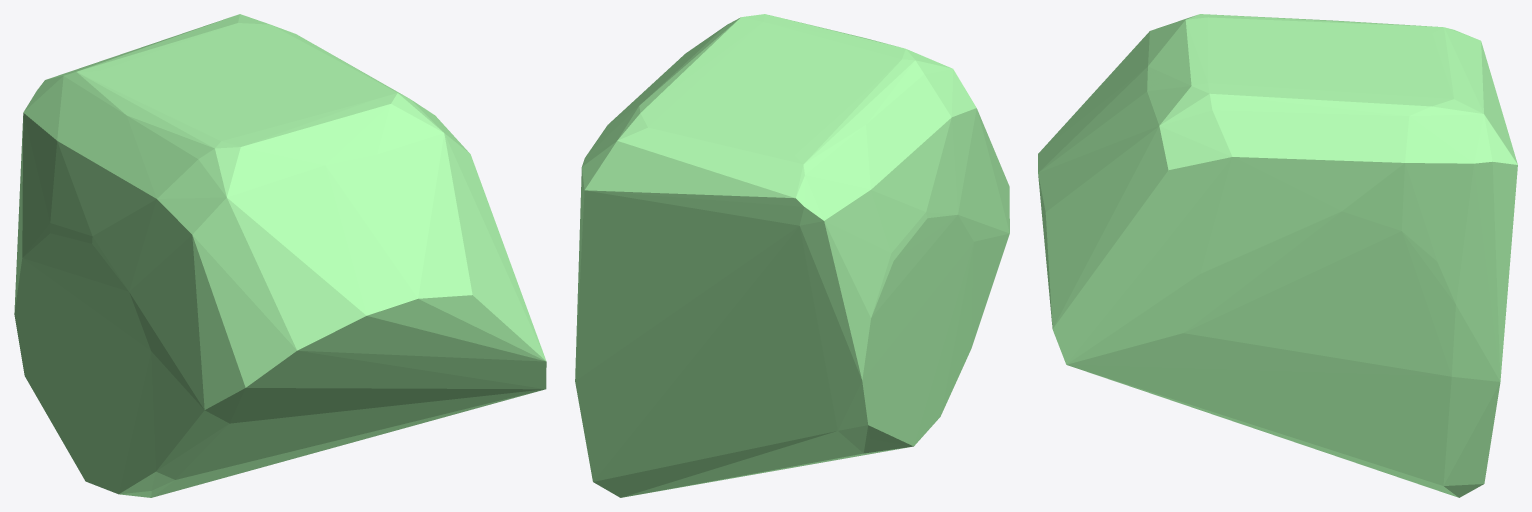
The model's file is linkhou_LR4_R560_link4_respondable_coll_6.dae.
3 views of the same model, side by side, from view 1: azimuth 30°, elevation 25°; view 2: azimuth 150°, elevation 25°; view 3: azimuth 270°, elevation 25° (orthographic). The views are drawn at different scales.
Visible parts, largest first — view 1: Node_00000209DB3AB530; view 2: Node_00000209DB3AB530; view 3: Node_00000209DB3AB530.
Boxes of the visible parts, x1,y1,x2,y2 form: Node_00000209DB3AB530: (14,14,546,497); Node_00000209DB3AB530: (575,14,1009,497); Node_00000209DB3AB530: (1038,14,1517,497).
Size of the model in its own units: 0.1014 by 0.1276 by 0.1371.
